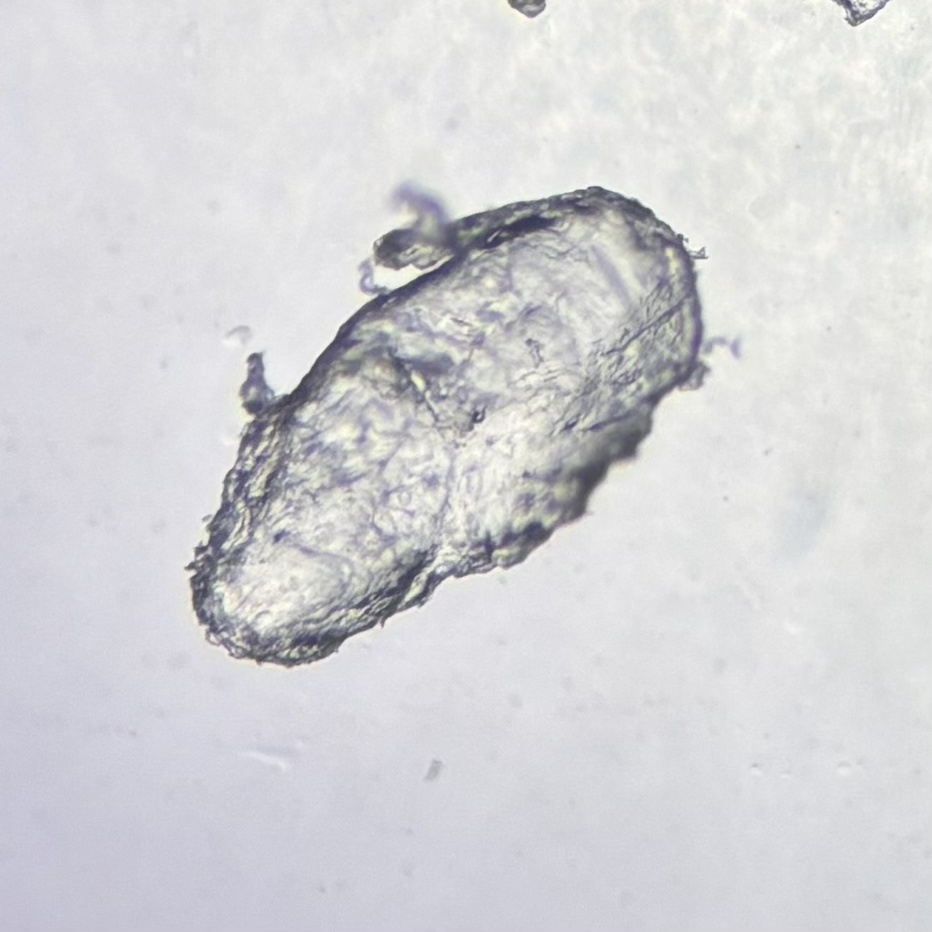microplastic: (186, 179, 744, 667), (832, 1, 889, 25), (504, 1, 547, 20)
